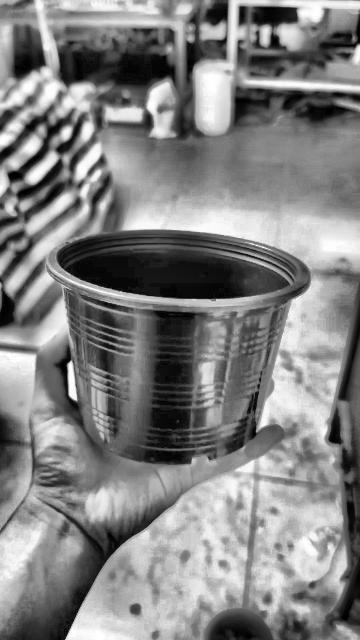pot: (44, 229, 310, 468)
